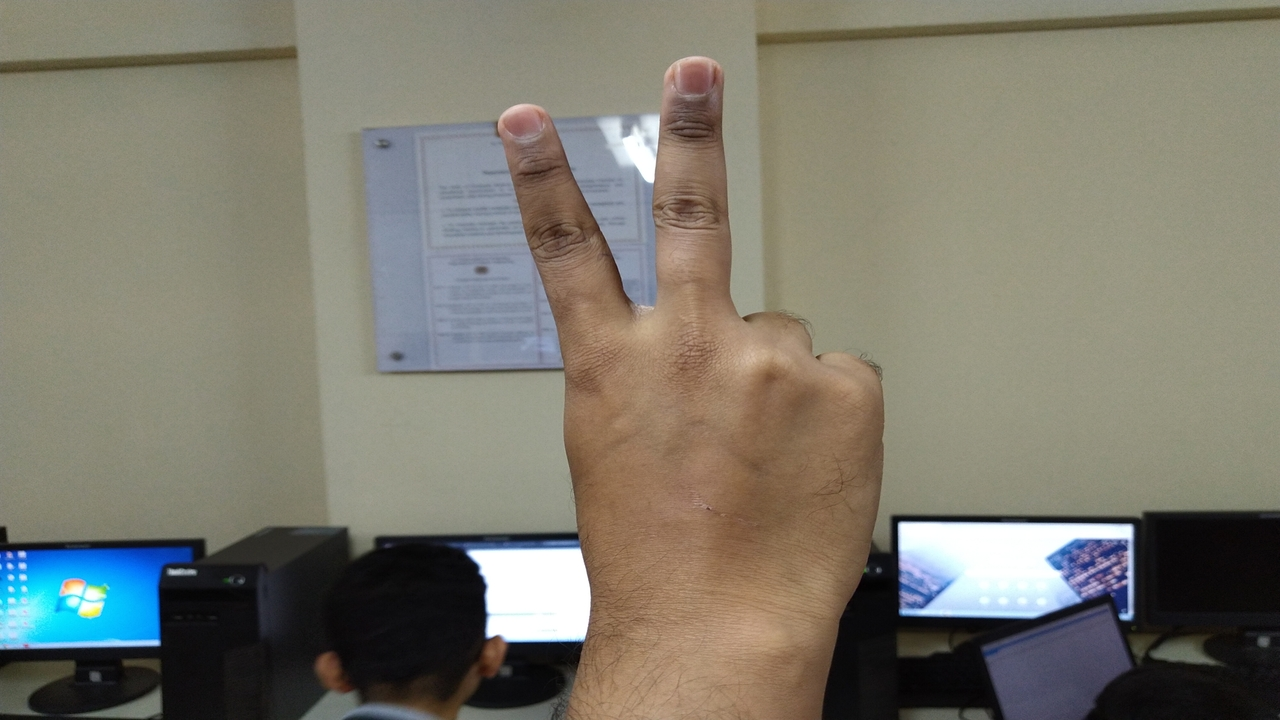fingertip: (658, 50, 728, 112), (490, 100, 562, 150)
